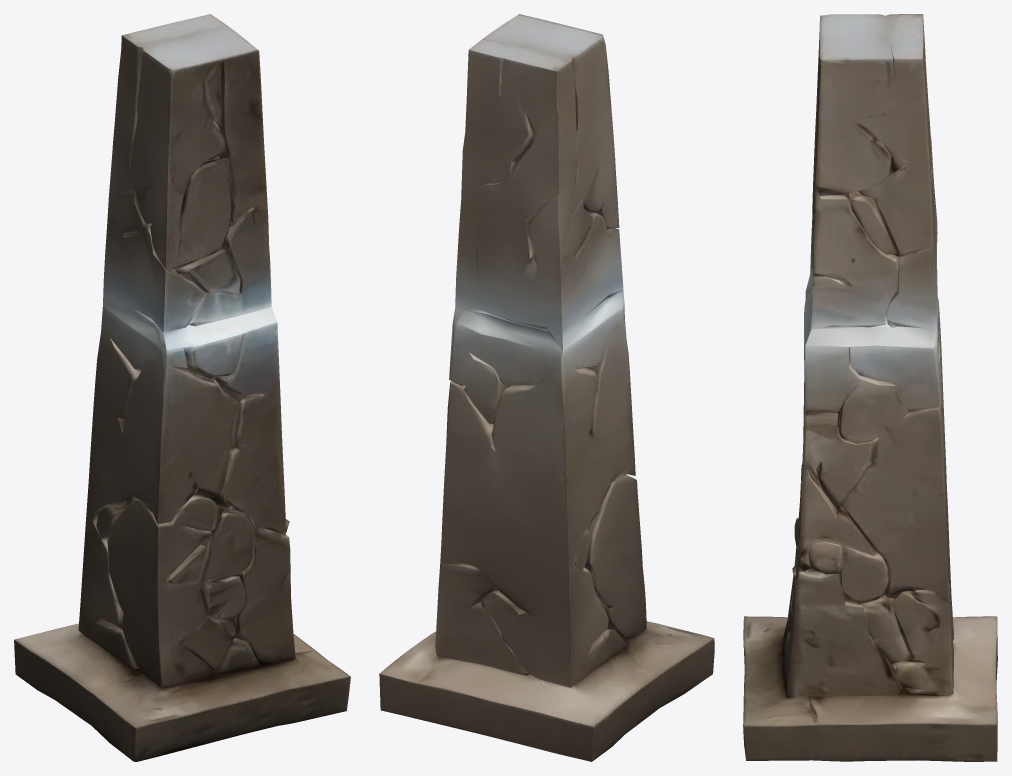
The model's file is m2BridgePylon.glb.
The picture shows the model from 3 angles, left to right: view 1: azimuth 30°, elevation 25°; view 2: azimuth 150°, elevation 25°; view 3: azimuth 270°, elevation 25°; orthographic projection. The views are drawn at different scales.
Visible parts, largest first — view 1: model; view 2: model; view 3: model.
Boxes of the visible parts, bbox=[...] form: model: bbox=[14, 14, 350, 761]; model: bbox=[379, 14, 714, 761]; model: bbox=[743, 14, 997, 761].
Bounding box in the file's own units: 0.6584 × 1.89 × 0.6454.
Materials: 1 (1 with a texture image).
